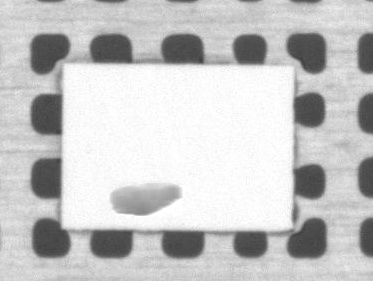DIE_INK: (111, 179, 182, 216)
